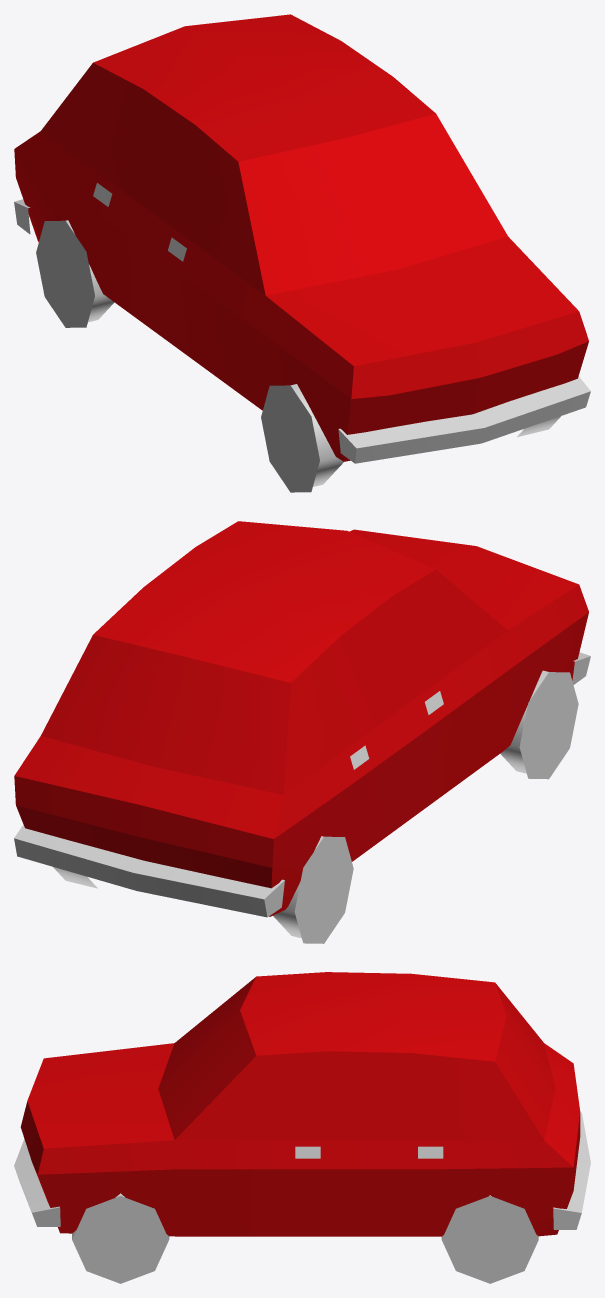
The model's file is spectator_car_proxy.glb.
The picture shows the model from 3 angles, top to bottom: view 1: azimuth 30°, elevation 25°; view 2: azimuth 150°, elevation 25°; view 3: azimuth 270°, elevation 25°; orthographic projection. The views are drawn at different scales.
Parts seen in each view (by area): view 1: Spectator4; view 2: Spectator4; view 3: Spectator4.
Boxes of the visible parts, left/top/right/bottom form: Spectator4: left=14, top=14, right=590, bottom=492; Spectator4: left=14, top=521, right=590, bottom=943; Spectator4: left=14, top=972, right=590, bottom=1283.
Bounding box in the file's own units: 1.52 × 1.53 × 3.53.
